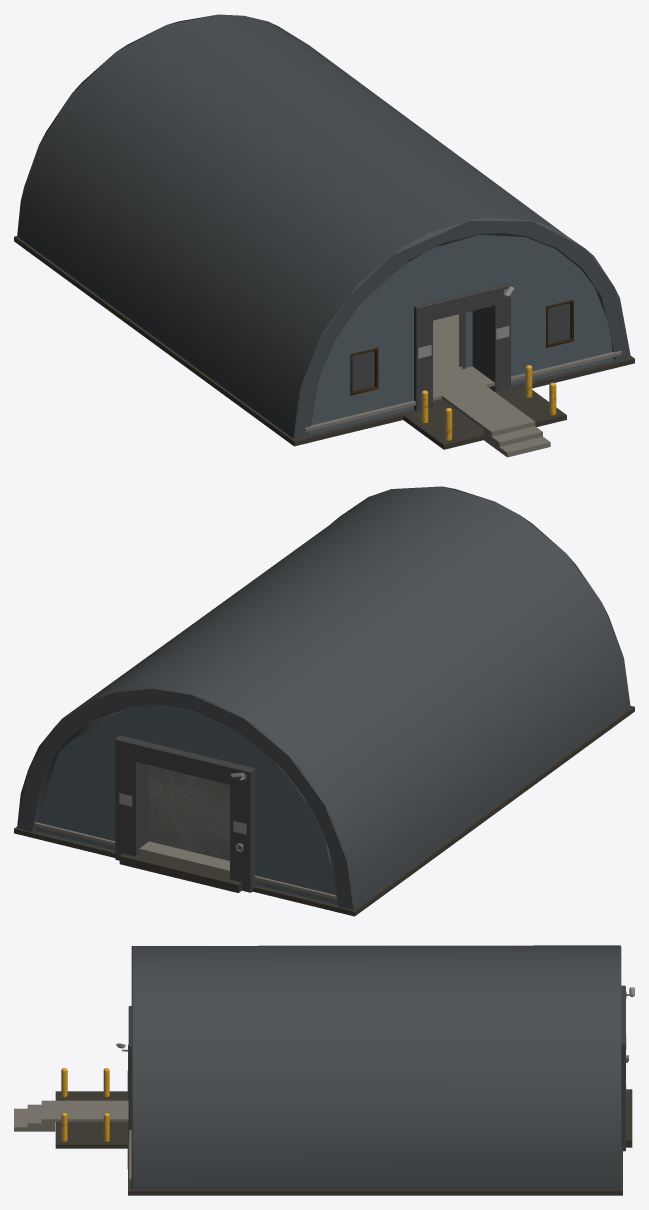
File: barracks.access-v2.lod0.glb
The picture shows the model from 3 angles, top to bottom: view 1: azimuth 30°, elevation 25°; view 2: azimuth 150°, elevation 25°; view 3: azimuth 270°, elevation 25°; orthographic projection. The views are drawn at different scales.
Parts seen in each view (by area): view 1: Object_7, Barricades_Barricades_map_0; view 2: Object_7, Object_13; view 3: Object_7, Barricades_Barricades_map_0.
Boxes of the visible parts, left/top/right/bottom form: Object_7: left=14, top=14, right=634, bottom=457; Barricades_Barricades_map_0: left=421, top=365, right=556, bottom=440; Object_7: left=14, top=486, right=634, bottom=916; Object_13: left=148, top=765, right=229, bottom=860; Object_7: left=14, top=945, right=634, bottom=1195; Barricades_Barricades_map_0: left=61, top=1068, right=109, bottom=1141.
Bounding box in the file's own units: 11.75 × 5.96 × 20.99.
6 materials, 4 textured.
